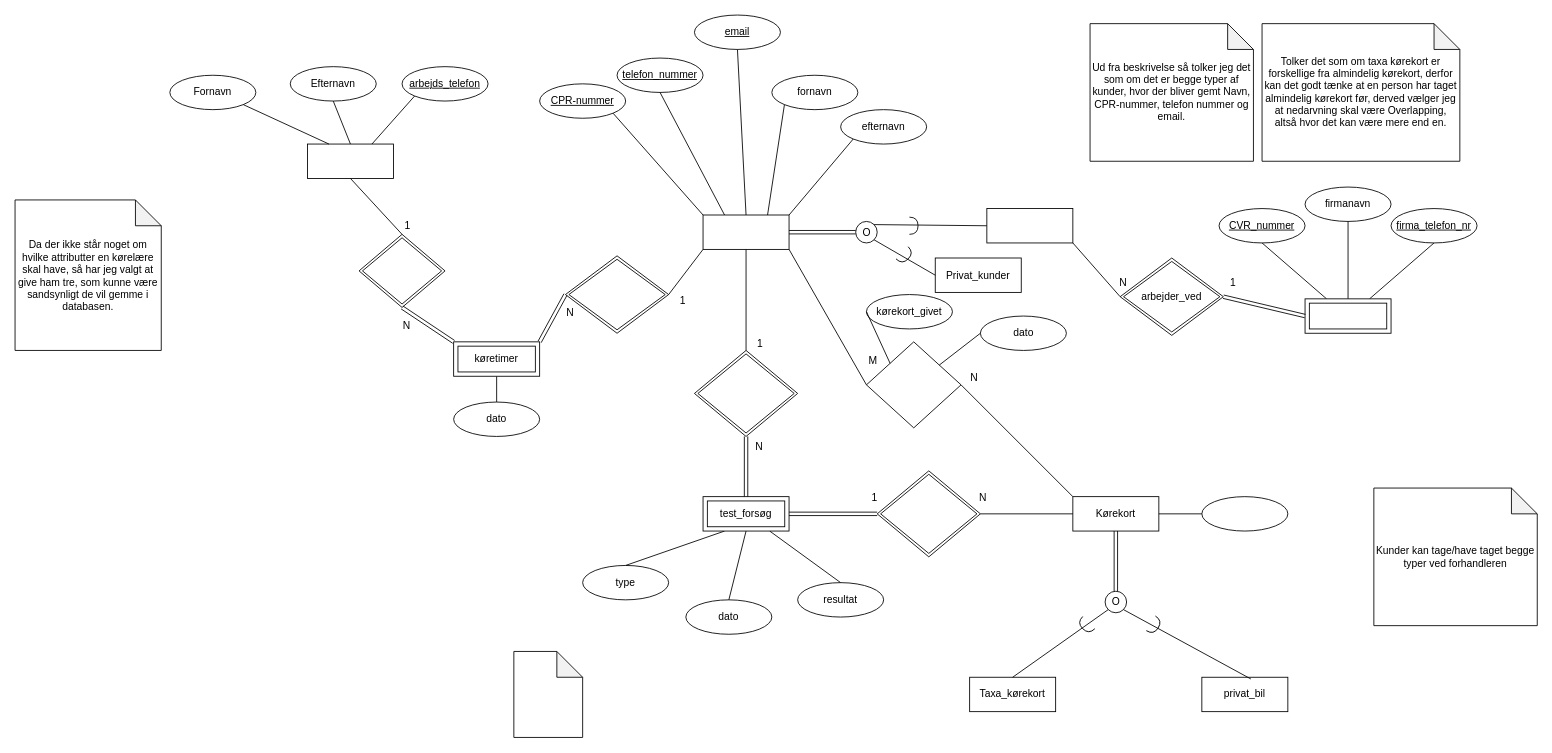
Image size: 1552x753. Some labels were removed from this diagram. The box of each missing label's shape, as (x1, y1, x2, y2) in pixels:
beløb: (1201, 496, 1288, 531)
erhvervskunder: (986, 208, 1073, 243)
firma: (1304, 298, 1391, 333)
Kunder: (702, 214, 789, 249)
Kørelære: (307, 143, 393, 178)
kører: (565, 255, 669, 333)
tager: (866, 341, 961, 428)
test: (694, 350, 798, 436)
type er praksis eller teori: (513, 651, 583, 737)
typen_er: (876, 470, 980, 557)
underviser: (358, 233, 445, 307)
